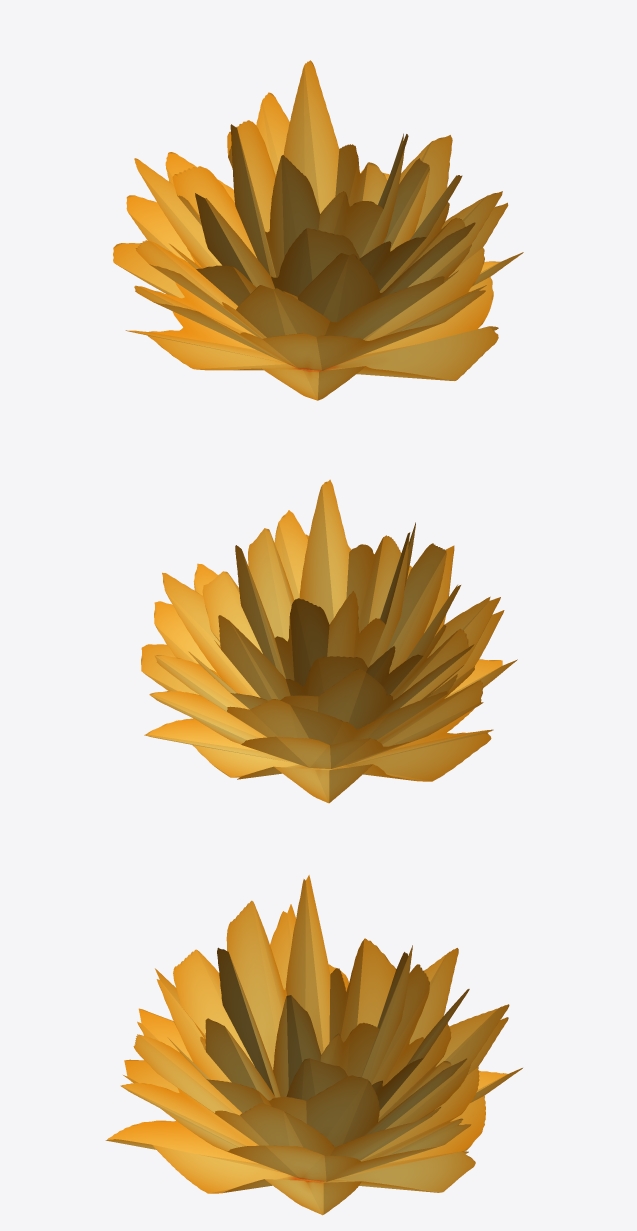
The model's file is WaterPlant03.glb.
3 views of the same model, one above another, from view 1: azimuth 30°, elevation 25°; view 2: azimuth 150°, elevation 25°; view 3: azimuth 270°, elevation 25° (orthographic). The views are drawn at different scales.
Visible parts, largest first — view 1: PlantAqua03; view 2: PlantAqua03; view 3: PlantAqua03.
Boxes of the visible parts, x1,y1,x2,y2 form: PlantAqua03: (113, 60, 523, 400); PlantAqua03: (141, 479, 517, 803); PlantAqua03: (105, 875, 522, 1215).
Bounding box in the file's own units: 0.6245 × 0.3098 × 0.6042.
1 material, 1 textured.
